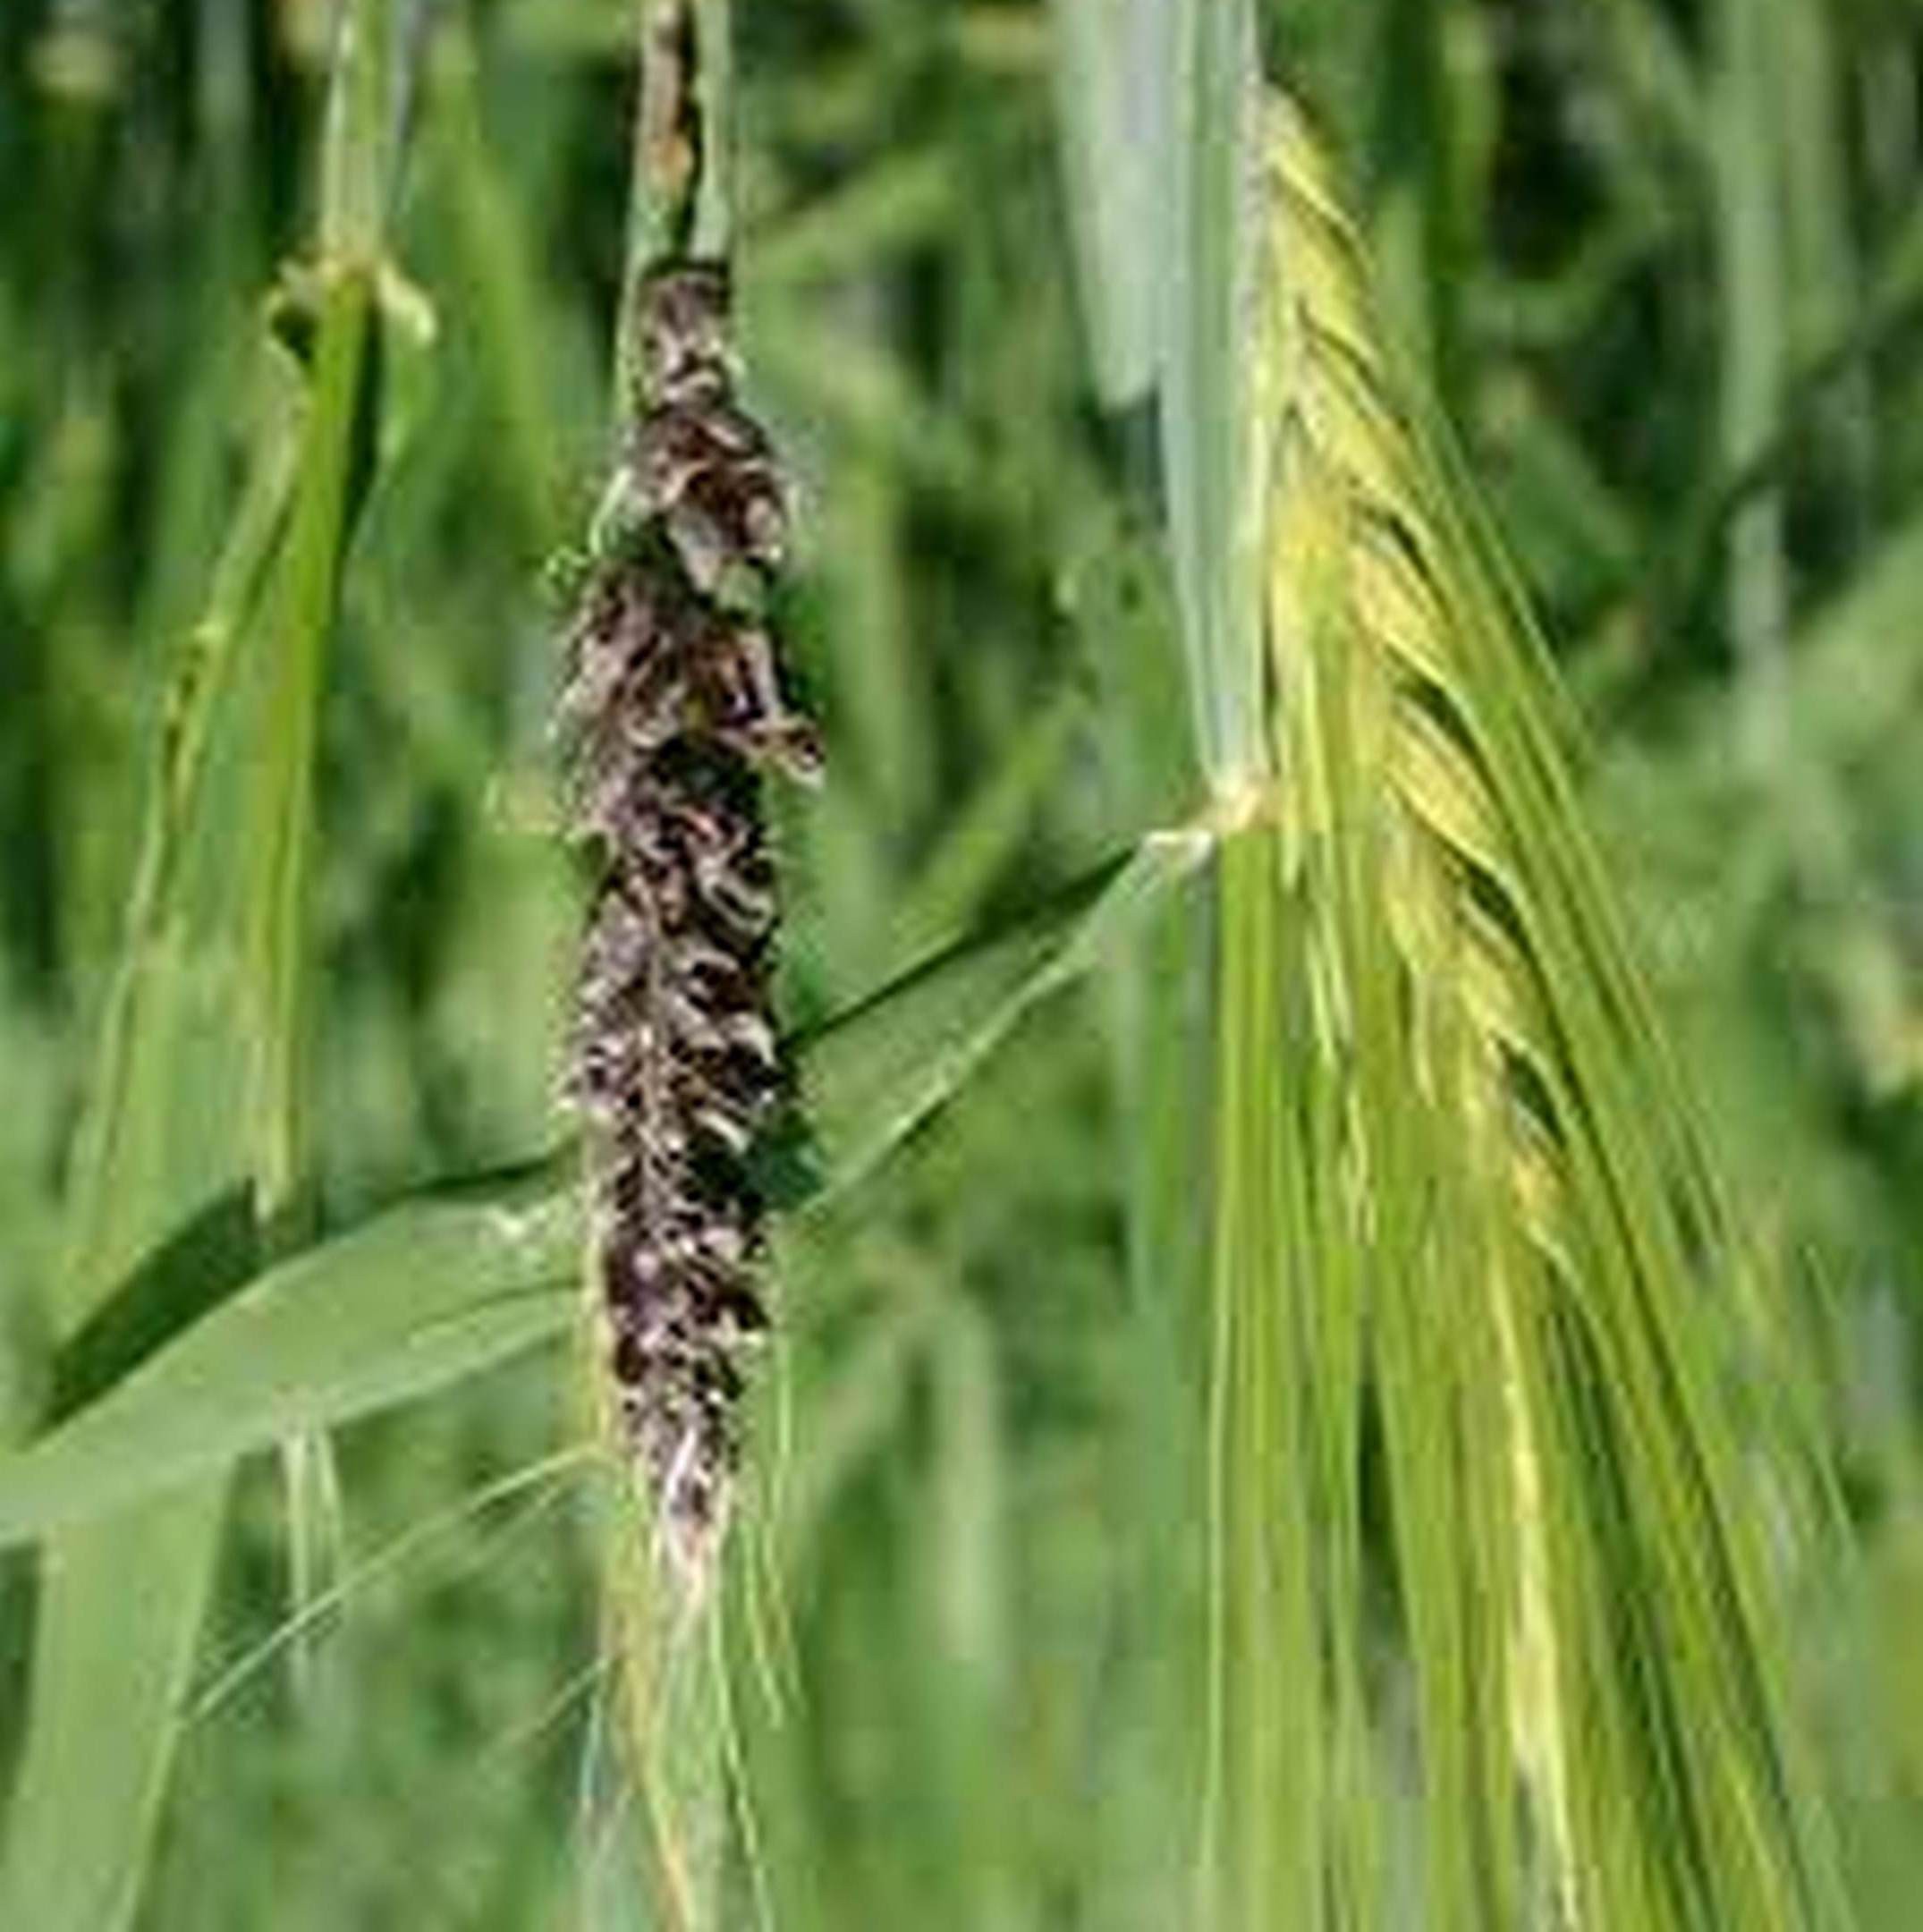Wheat Loose Smut: (511, 232, 866, 1569)
